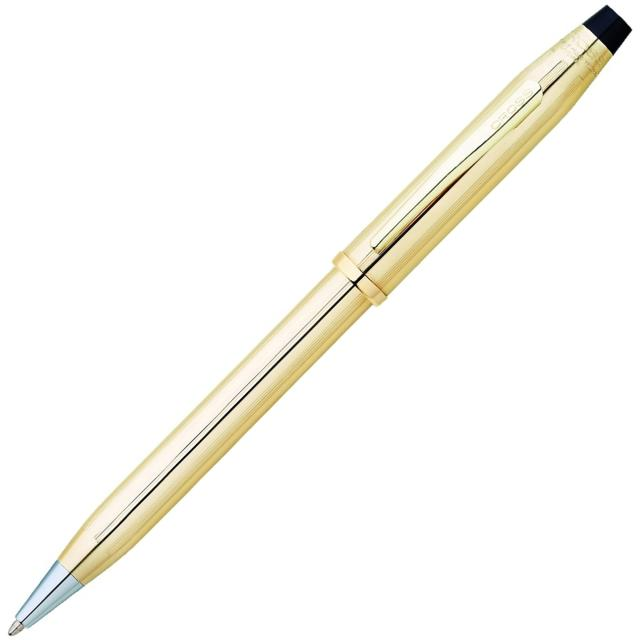pen: (0, 0, 636, 640)
